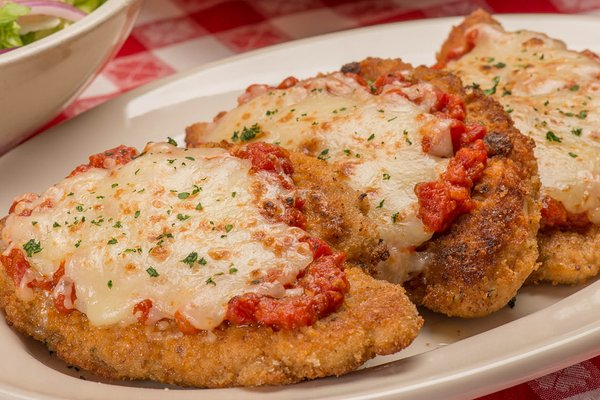sushi: (0, 0, 141, 158)
